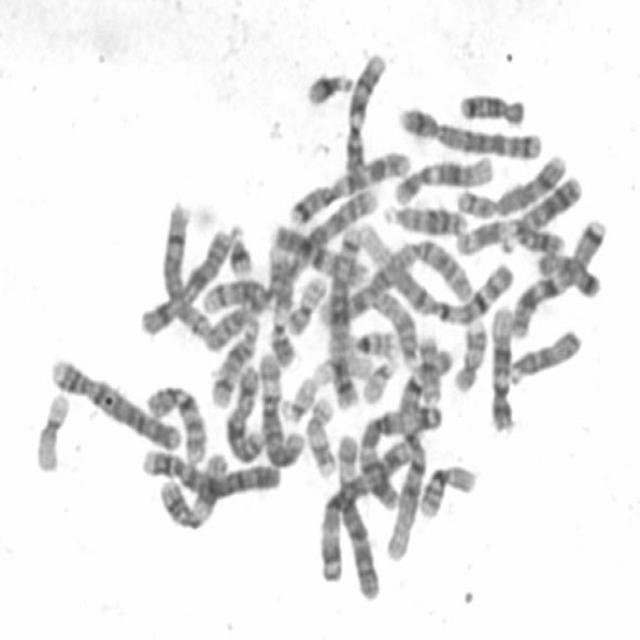A1: (344, 218, 515, 326), (378, 330, 452, 566)
A2: (228, 188, 381, 336), (314, 231, 474, 327)
A3: (312, 425, 426, 587), (352, 397, 446, 512)
B4: (44, 347, 184, 451), (136, 439, 285, 499)
B5: (392, 96, 544, 161), (323, 218, 370, 410)
C10: (263, 214, 371, 286), (139, 373, 210, 466)
C11: (152, 444, 230, 530), (448, 208, 566, 258)
C12: (387, 146, 496, 204), (484, 297, 517, 433)
C6: (329, 424, 382, 603), (252, 343, 306, 470)
C7: (503, 207, 609, 339), (283, 141, 412, 226)
C8: (451, 144, 570, 219), (159, 197, 215, 339)
C9: (338, 42, 389, 178), (261, 235, 299, 368)
D13: (508, 168, 583, 236), (378, 194, 469, 236)
D14: (204, 308, 262, 409), (195, 270, 273, 316)
D15: (501, 318, 584, 387), (364, 280, 422, 368)
E16: (412, 455, 480, 520), (210, 293, 259, 356)
E17: (299, 388, 338, 479), (446, 312, 489, 394)
E18: (532, 242, 604, 300), (452, 82, 528, 126)
F19: (28, 381, 72, 474), (310, 354, 362, 384)
F20: (281, 266, 329, 336), (412, 328, 443, 406)
G21: (299, 61, 356, 107), (221, 215, 256, 279)
G22: (274, 368, 321, 424), (356, 348, 400, 405)
X: (134, 220, 232, 336), (218, 356, 267, 464)
